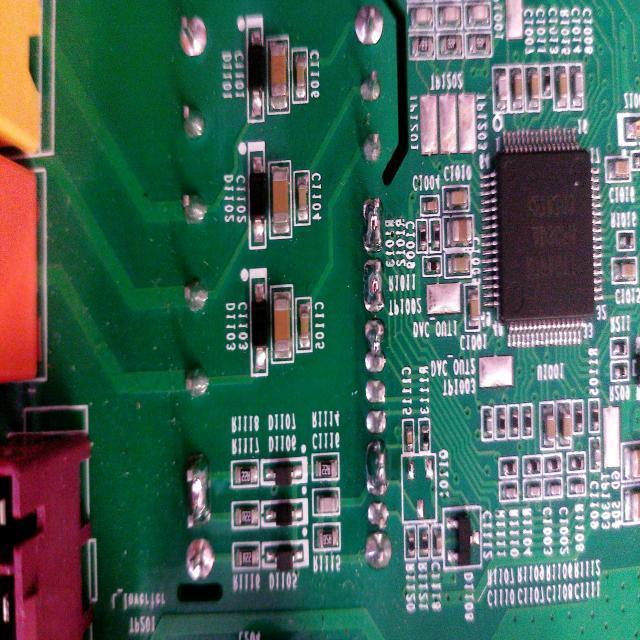Soldering shorted: (180, 450, 216, 536), (362, 438, 394, 500), (360, 255, 390, 317), (360, 193, 387, 256), (362, 317, 388, 378)
